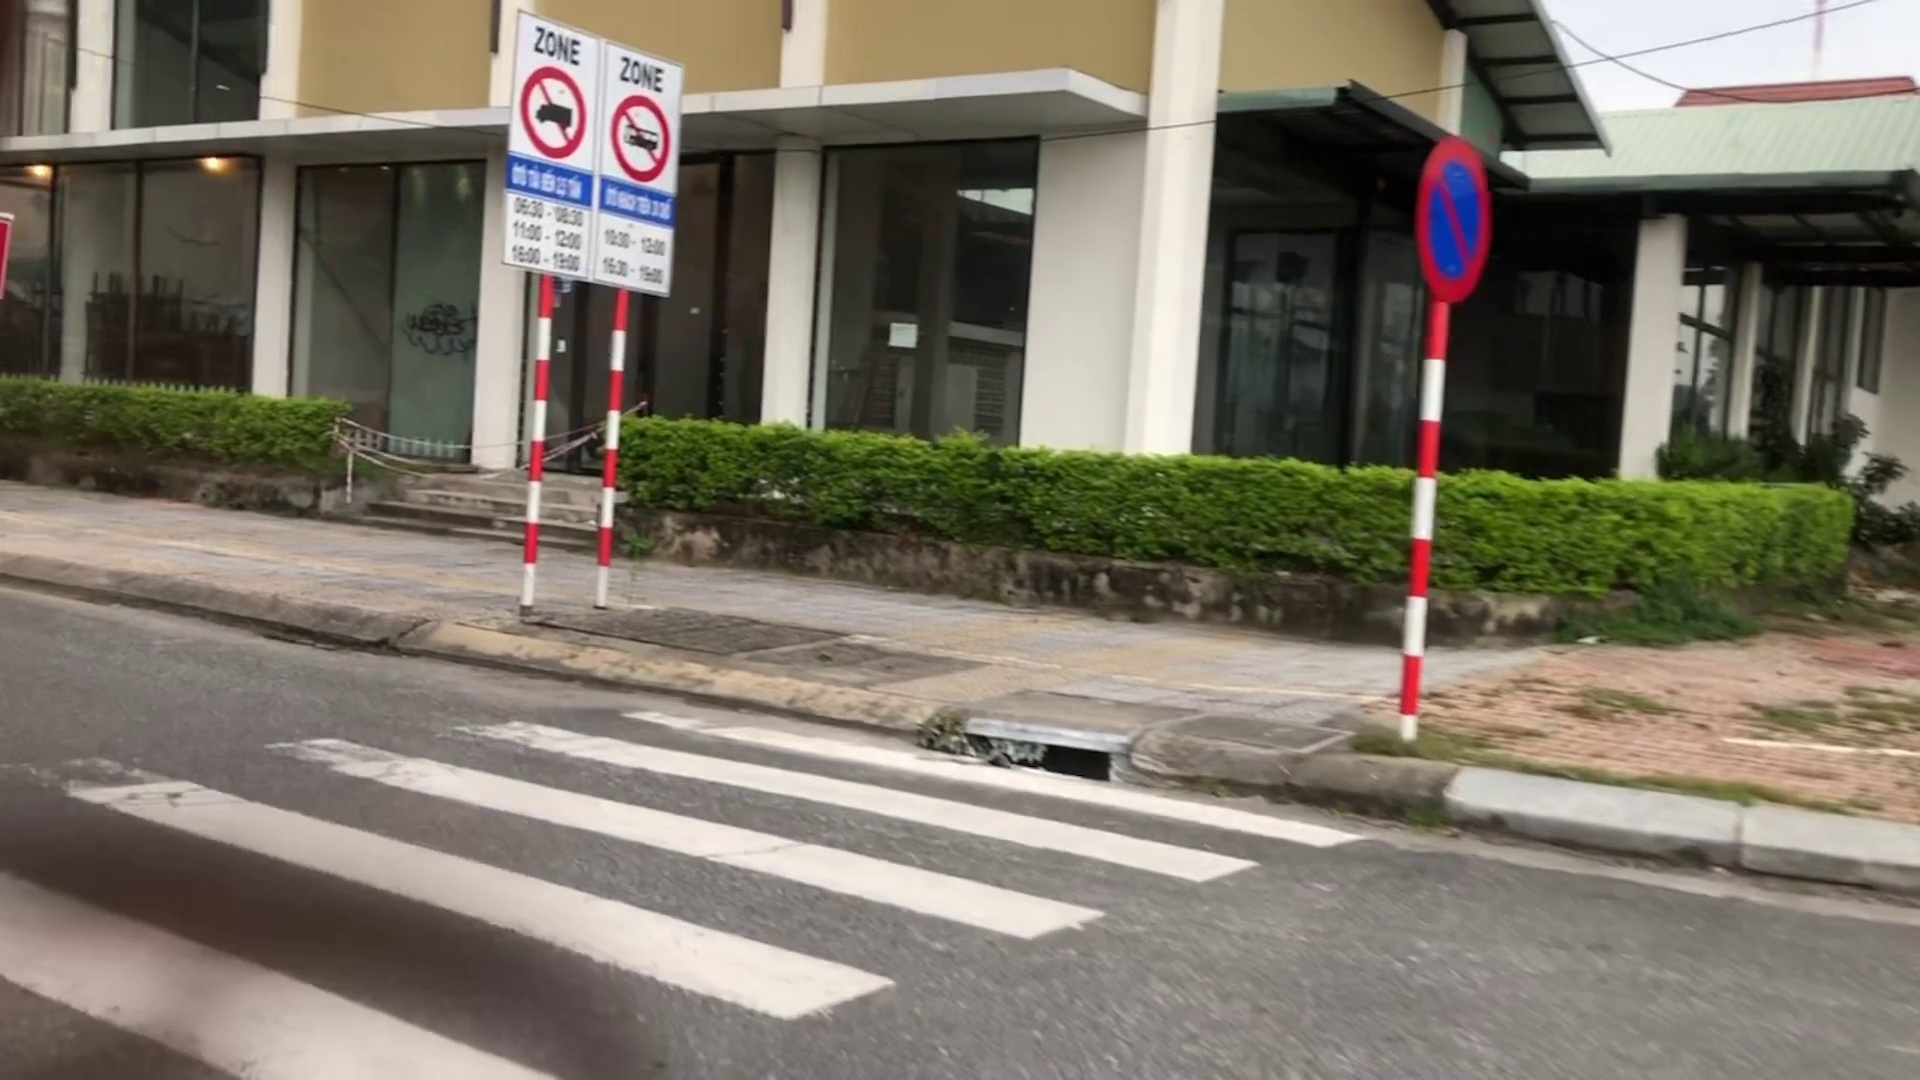Cam do xe: (502, 5, 676, 305), (1408, 135, 1495, 305)
